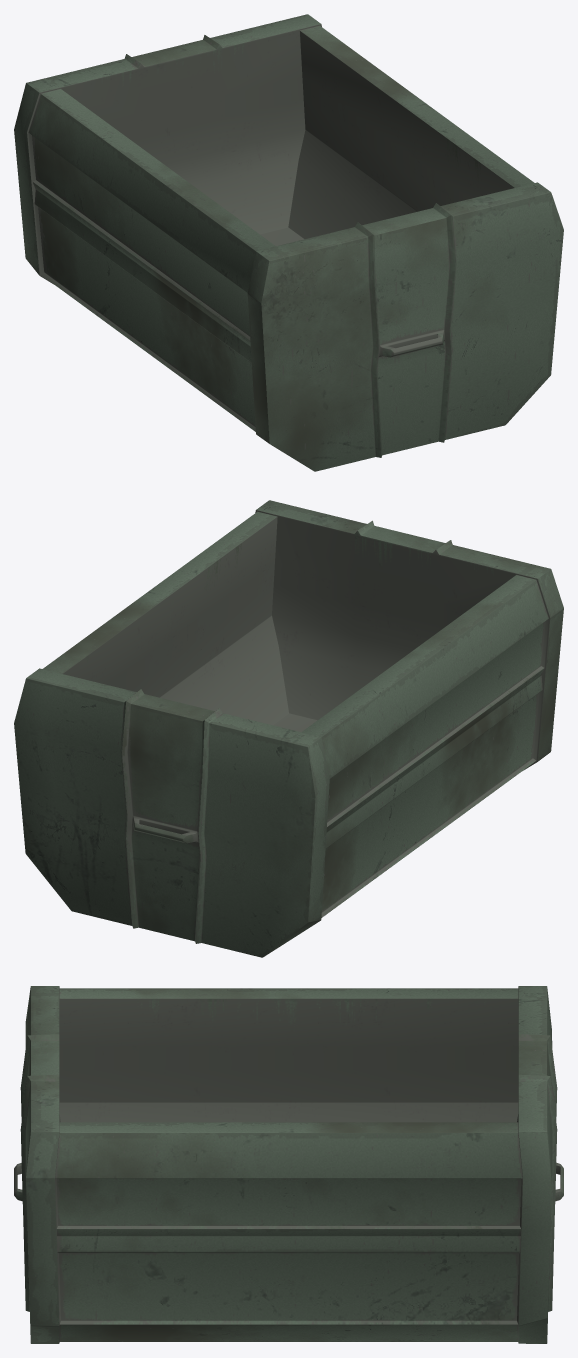
Rendered from contener.gltf.
3 views of the same model, one above another, from view 1: azimuth 30°, elevation 25°; view 2: azimuth 150°, elevation 25°; view 3: azimuth 270°, elevation 25° (orthographic). The views are drawn at different scales.
Parts seen in each view (by area): view 1: contener; view 2: contener; view 3: contener.
Part boxes in pixels (bbox=[...]): contener: bbox=[14, 14, 563, 471]; contener: bbox=[14, 500, 563, 957]; contener: bbox=[14, 986, 563, 1343].
Bounding box in the file's own units: 2.93 × 2.09 × 4.35.
Materials: 1 (1 with a texture image).
